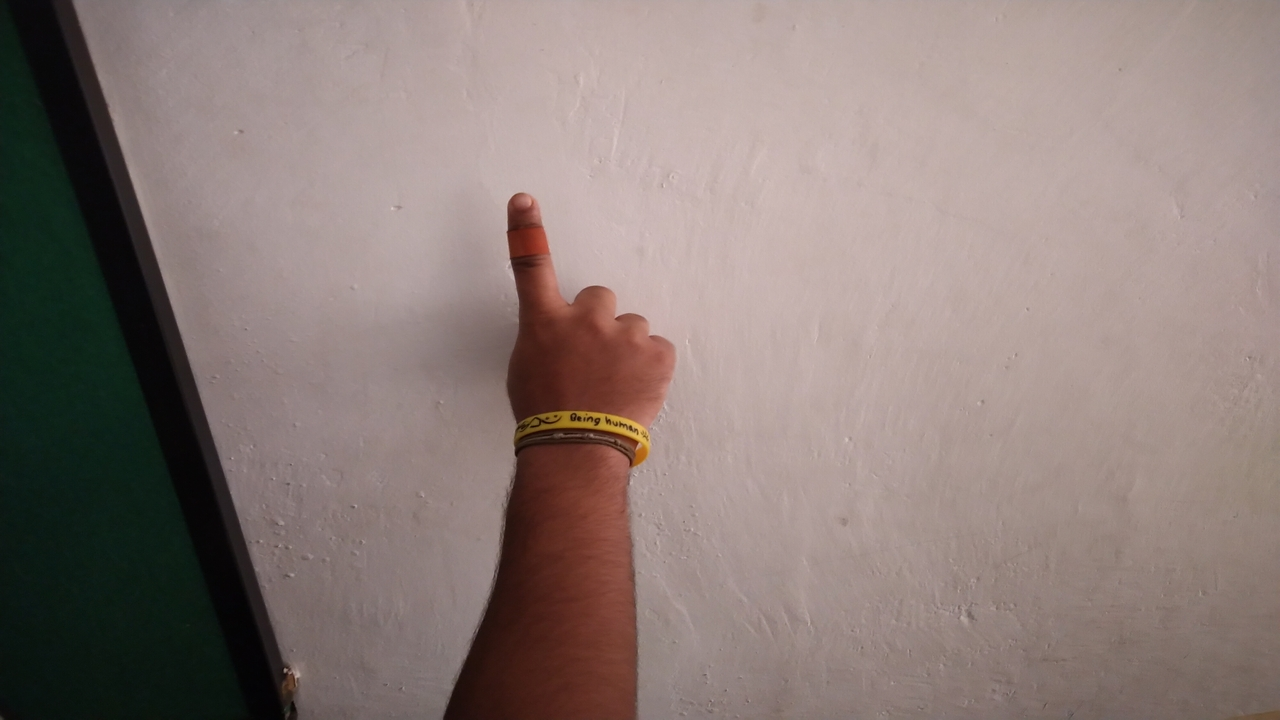fingertip: (500, 180, 548, 224)
